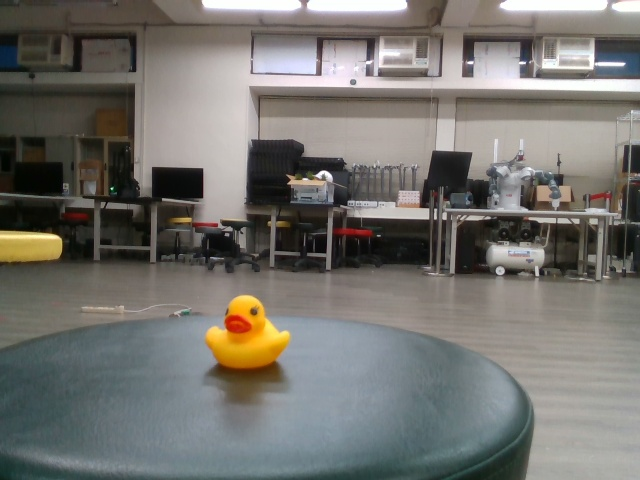duck: (202, 291, 295, 375)
